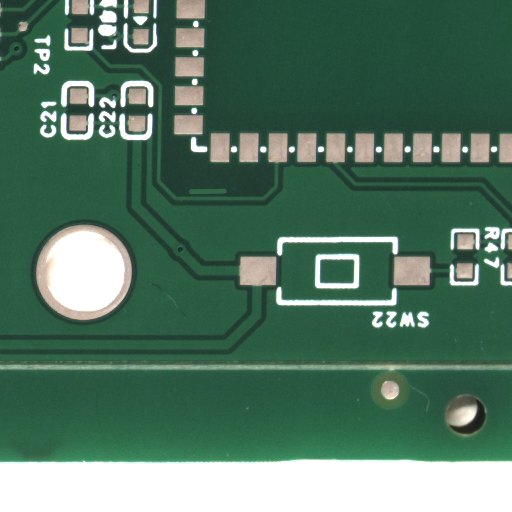Spurious_copper: (208, 190, 248, 199)
